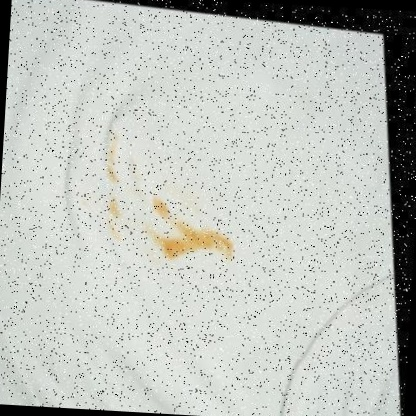kimchi: (154, 221, 240, 261), (99, 129, 122, 184), (104, 189, 124, 244), (142, 197, 170, 223)
